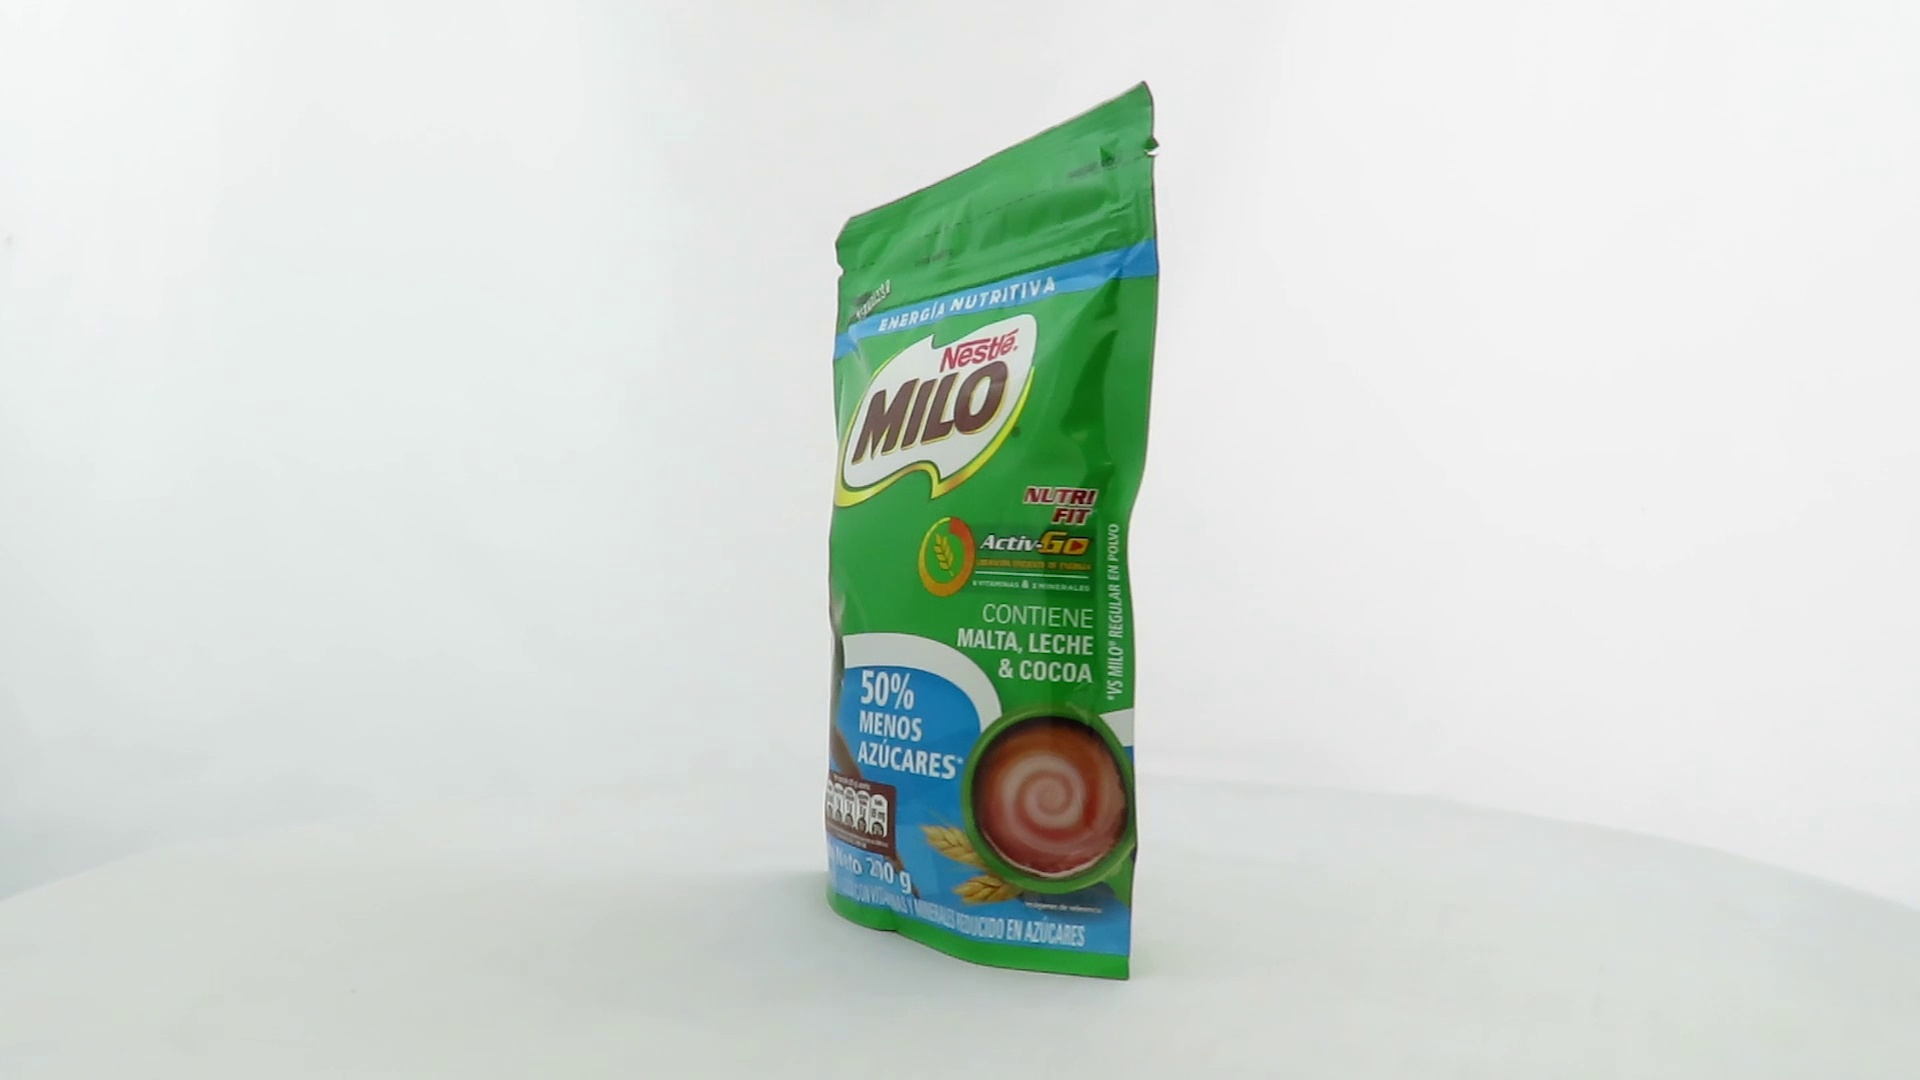COL0170205DYP20000: (795, 76, 1166, 986)
